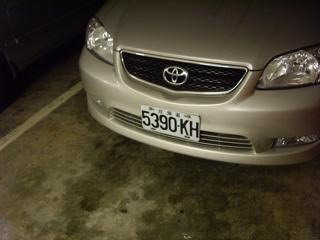plate: (140, 103, 202, 143)
